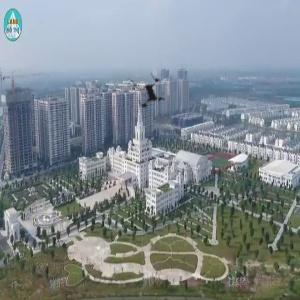drone: (112, 52, 192, 132)
